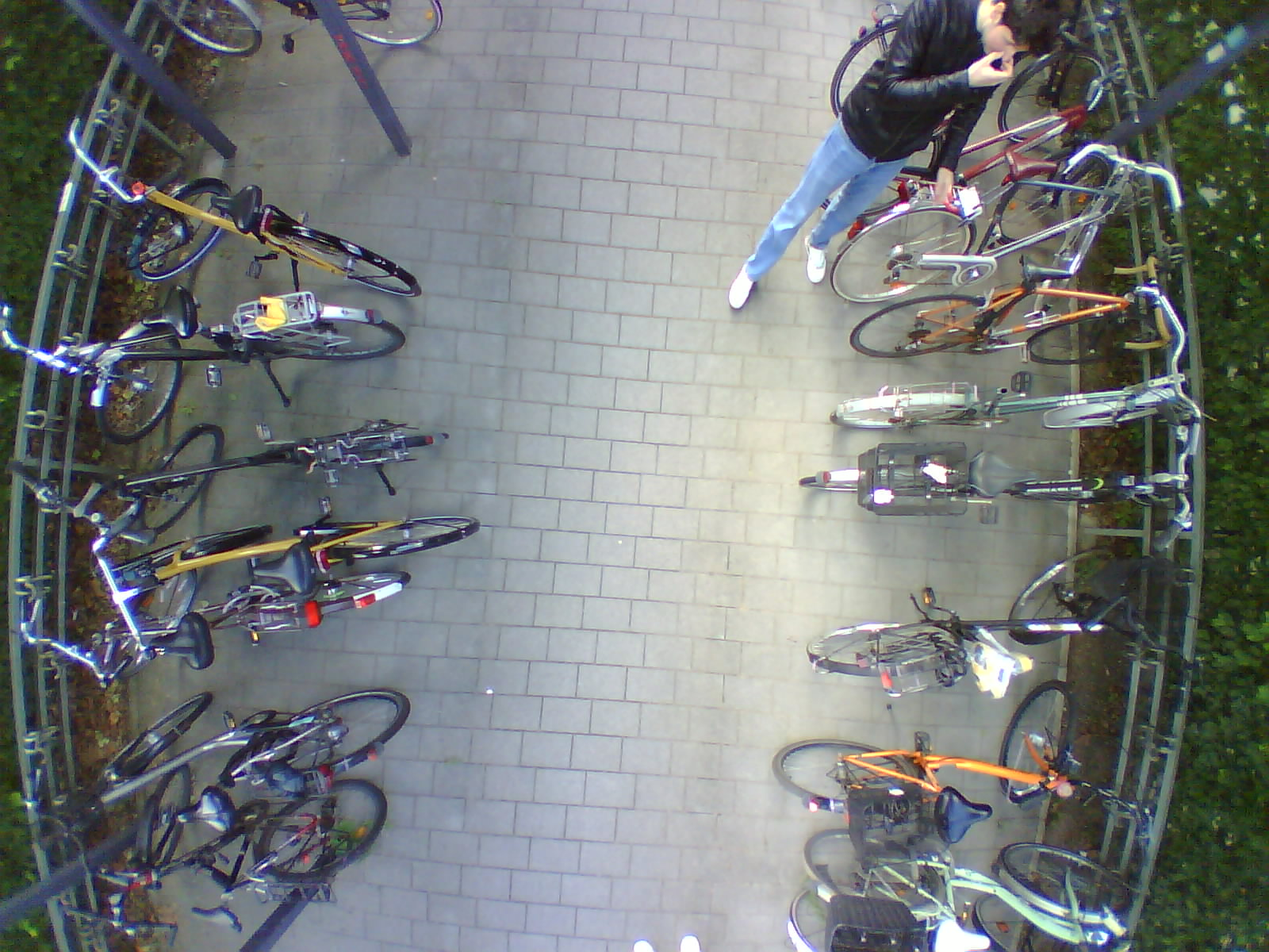bicylce: (776, 681, 1131, 856), (800, 534, 1155, 703), (73, 684, 420, 831), (81, 286, 408, 434), (109, 771, 389, 942), (834, 143, 1113, 304), (798, 434, 1206, 538), (790, 833, 1133, 952), (117, 166, 419, 301), (32, 575, 409, 677), (118, 414, 448, 523), (842, 258, 1165, 366), (83, 512, 477, 596), (823, 362, 1207, 442)
saddle: (964, 638, 1037, 703), (149, 612, 221, 672), (247, 552, 321, 601), (923, 906, 998, 952), (136, 288, 201, 340), (933, 786, 992, 842), (173, 787, 236, 836), (974, 449, 1037, 498), (208, 184, 264, 234), (998, 145, 1058, 187), (190, 898, 242, 943), (1016, 258, 1069, 288)
